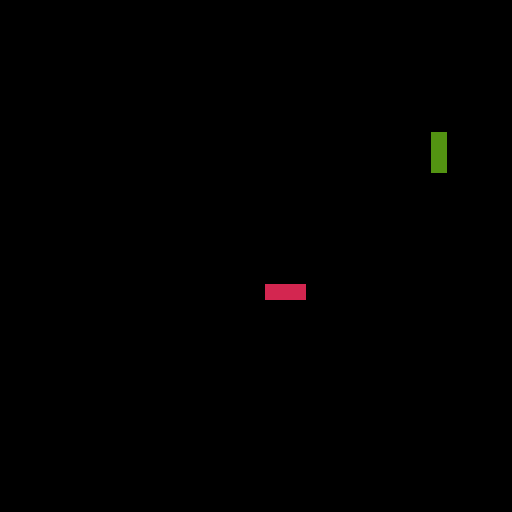side_rect: (264, 279, 309, 304)
up_rect: (427, 127, 450, 177)
